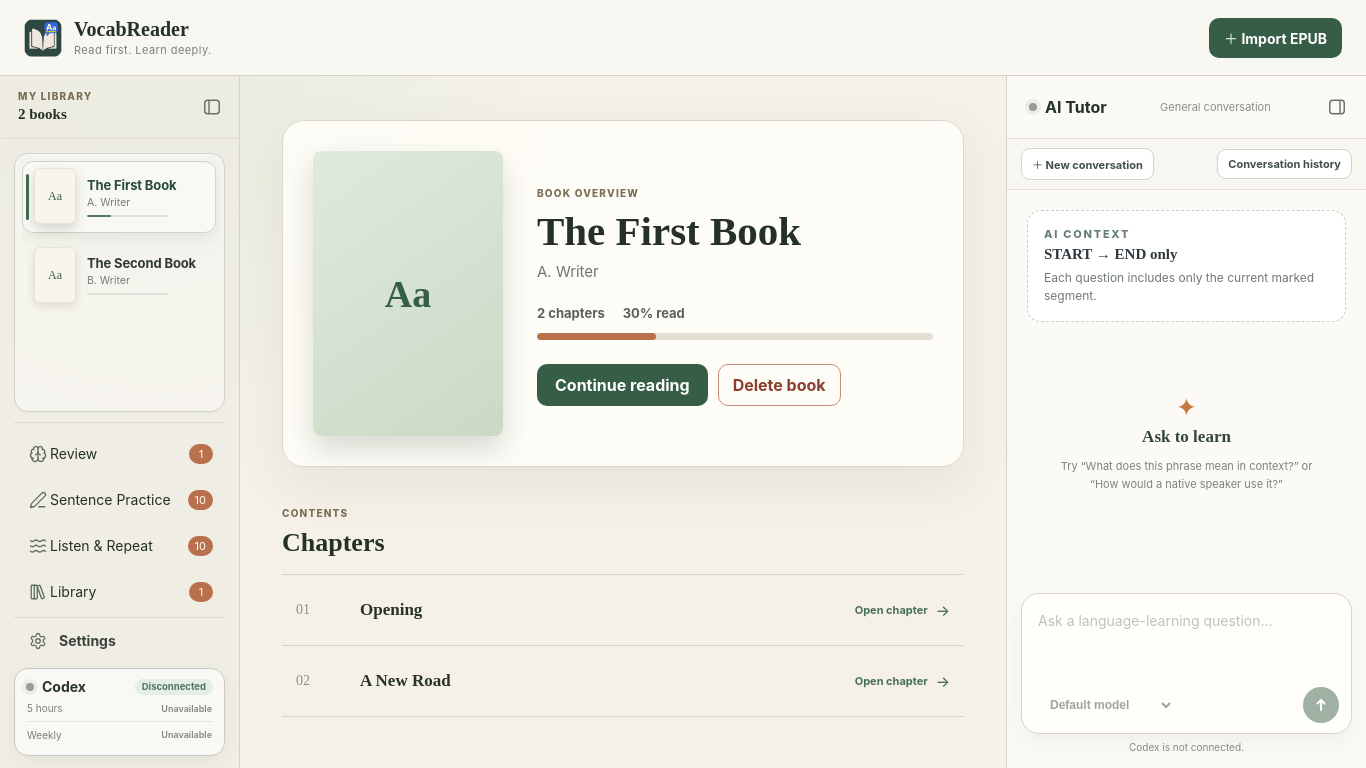
Test case: App › offers ZIP data backup export and restore from settings
Click the button "Settings" at (120,641), box [14,622,225,660]
(page scrolled)
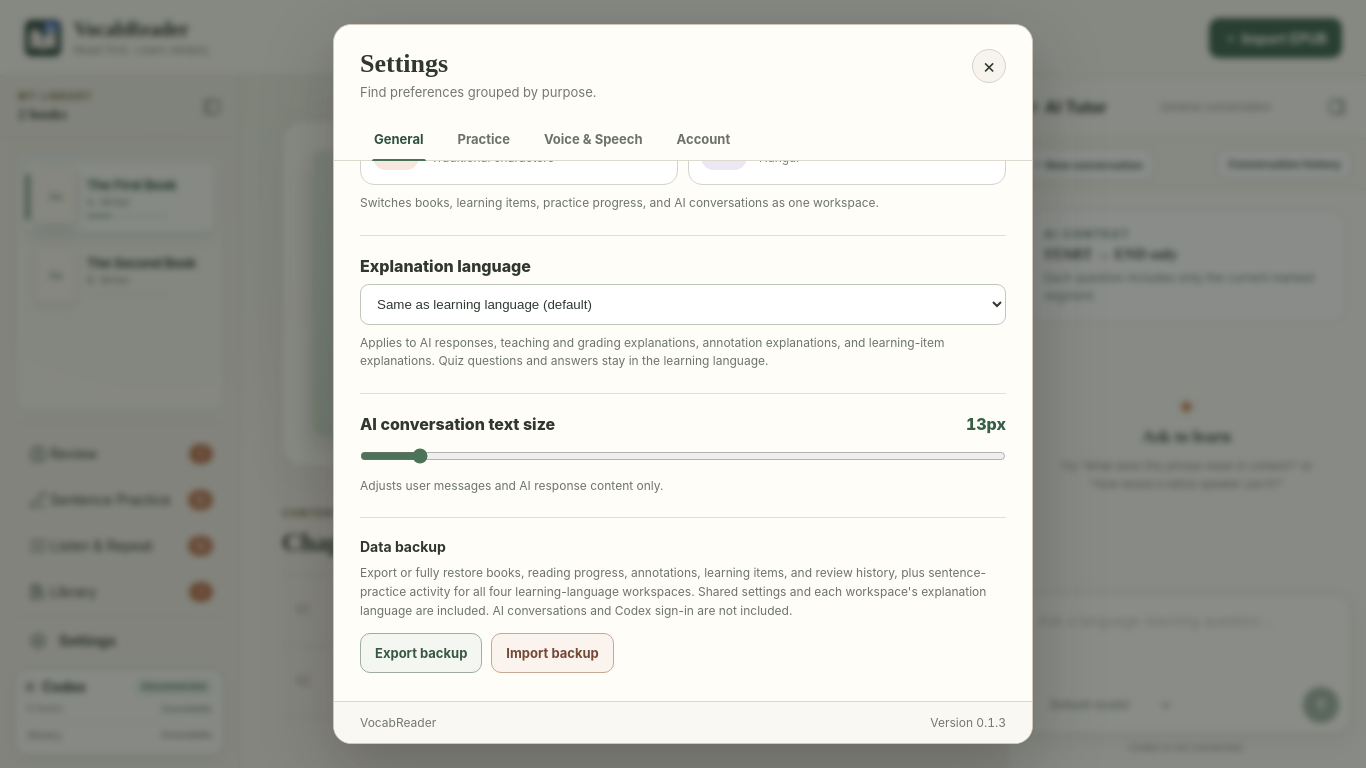
Expected: the heading "Data backup" is shown, [360,538,446,555]
Expected: the button "Export backup" is shown, [360,633,482,673]
Expected: the button "Import backup" is shown, [491,633,614,673]
